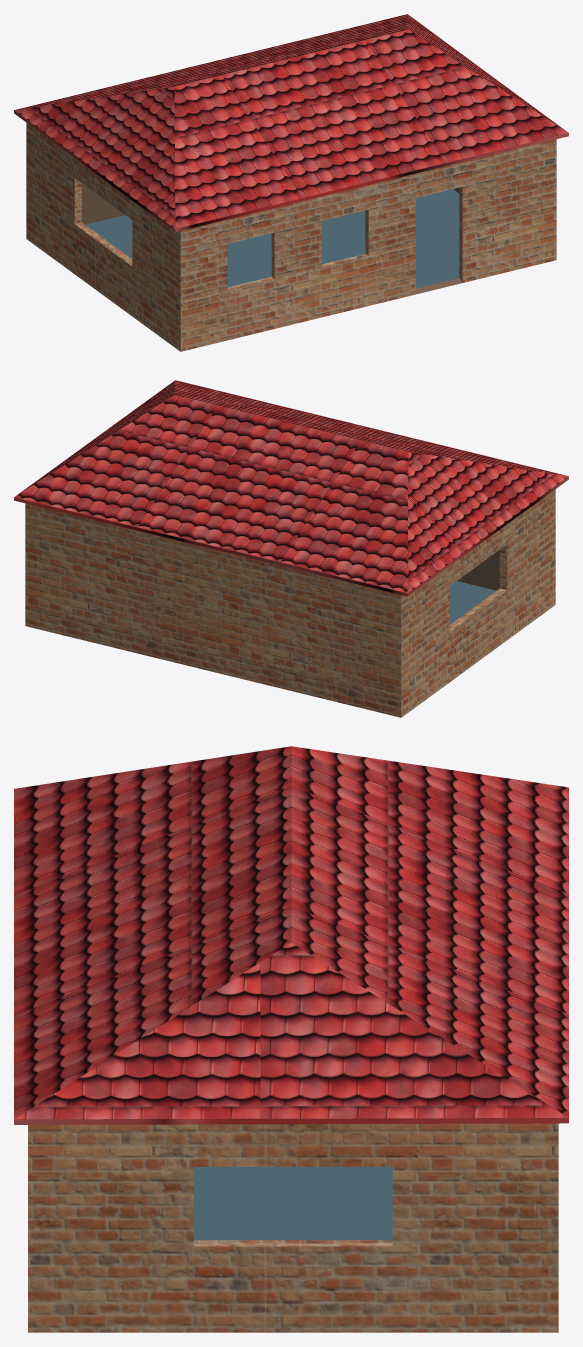
File: HOUSE_11.fbx
3 renders of one model, top to bottom at view 1: azimuth 30°, elevation 25°; view 2: azimuth 150°, elevation 25°; view 3: azimuth 270°, elevation 25°, orthographic. The views are drawn at different scales.
Parts seen in each view (by area): view 1: HOUSE_11; view 2: HOUSE_11; view 3: HOUSE_11.
Boxes of the visible parts, left/top/right/bottom form: HOUSE_11: left=14, top=14, right=568, bottom=351; HOUSE_11: left=14, top=380, right=568, bottom=717; HOUSE_11: left=14, top=746, right=568, bottom=1332.
Bounding box in the file's own units: 1016 × 474 × 721.
